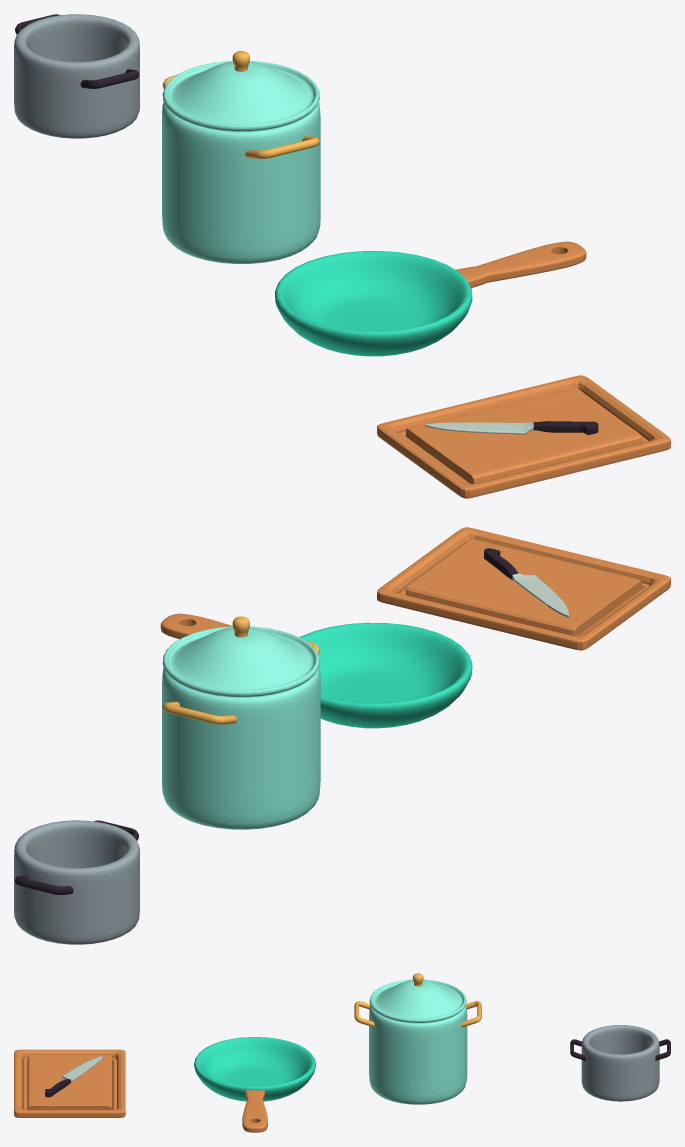
The model's file is garnek.glb.
3 views of the same model, one above another, from view 1: azimuth 30°, elevation 25°; view 2: azimuth 150°, elevation 25°; view 3: azimuth 270°, elevation 25° (orthographic). The views are drawn at different scales.
Visible parts, largest first — view 1: Circle, Cube, Circle.002, Circle.003, Circle.001, Plane.001, Cube.001, Plane, Cube.002, Plane.002; view 2: Circle, Cube, Circle.002, Circle.003, Circle.001, Plane.001, Cube.001, Plane, Plane.002; view 3: Circle, Cube, Circle.002, Circle.003, Circle.001, Plane.001, Plane, Plane.002, Cube.001.
Boxes of the visible parts, bbox=[...] form: Circle: bbox=[162, 102, 320, 263]; Cube: bbox=[377, 375, 670, 498]; Circle.002: bbox=[275, 251, 472, 356]; Circle.003: bbox=[14, 14, 139, 138]; Circle.001: bbox=[162, 61, 319, 131]; Plane.001: bbox=[455, 241, 586, 287]; Cube.001: bbox=[425, 421, 533, 434]; Plane: bbox=[162, 75, 319, 158]; Cube.002: bbox=[533, 421, 598, 434]; Plane.002: bbox=[15, 14, 138, 88]; Circle: bbox=[162, 667, 320, 829]; Cube: bbox=[377, 527, 670, 650]; Circle.002: bbox=[299, 622, 472, 728]; Circle.003: bbox=[14, 820, 139, 944]; Circle.001: bbox=[162, 626, 319, 697]; Plane.001: bbox=[160, 613, 232, 639]; Cube.001: bbox=[512, 573, 568, 617]; Plane: bbox=[162, 640, 319, 724]; Plane.002: bbox=[15, 820, 138, 894]; Circle: bbox=[369, 1005, 467, 1104]; Cube: bbox=[14, 1049, 125, 1117]; Circle.002: bbox=[194, 1037, 315, 1101]; Circle.003: bbox=[581, 1025, 659, 1101]; Circle.001: bbox=[369, 979, 466, 1023]; Plane.001: bbox=[242, 1090, 267, 1132]; Plane: bbox=[354, 1001, 481, 1027]; Plane.002: bbox=[570, 1039, 670, 1060]; Cube.001: bbox=[62, 1056, 102, 1082].
Bounding box in the file's own units: 4.1 × 2.3 × 12.08.
11 materials, 11 textured.
